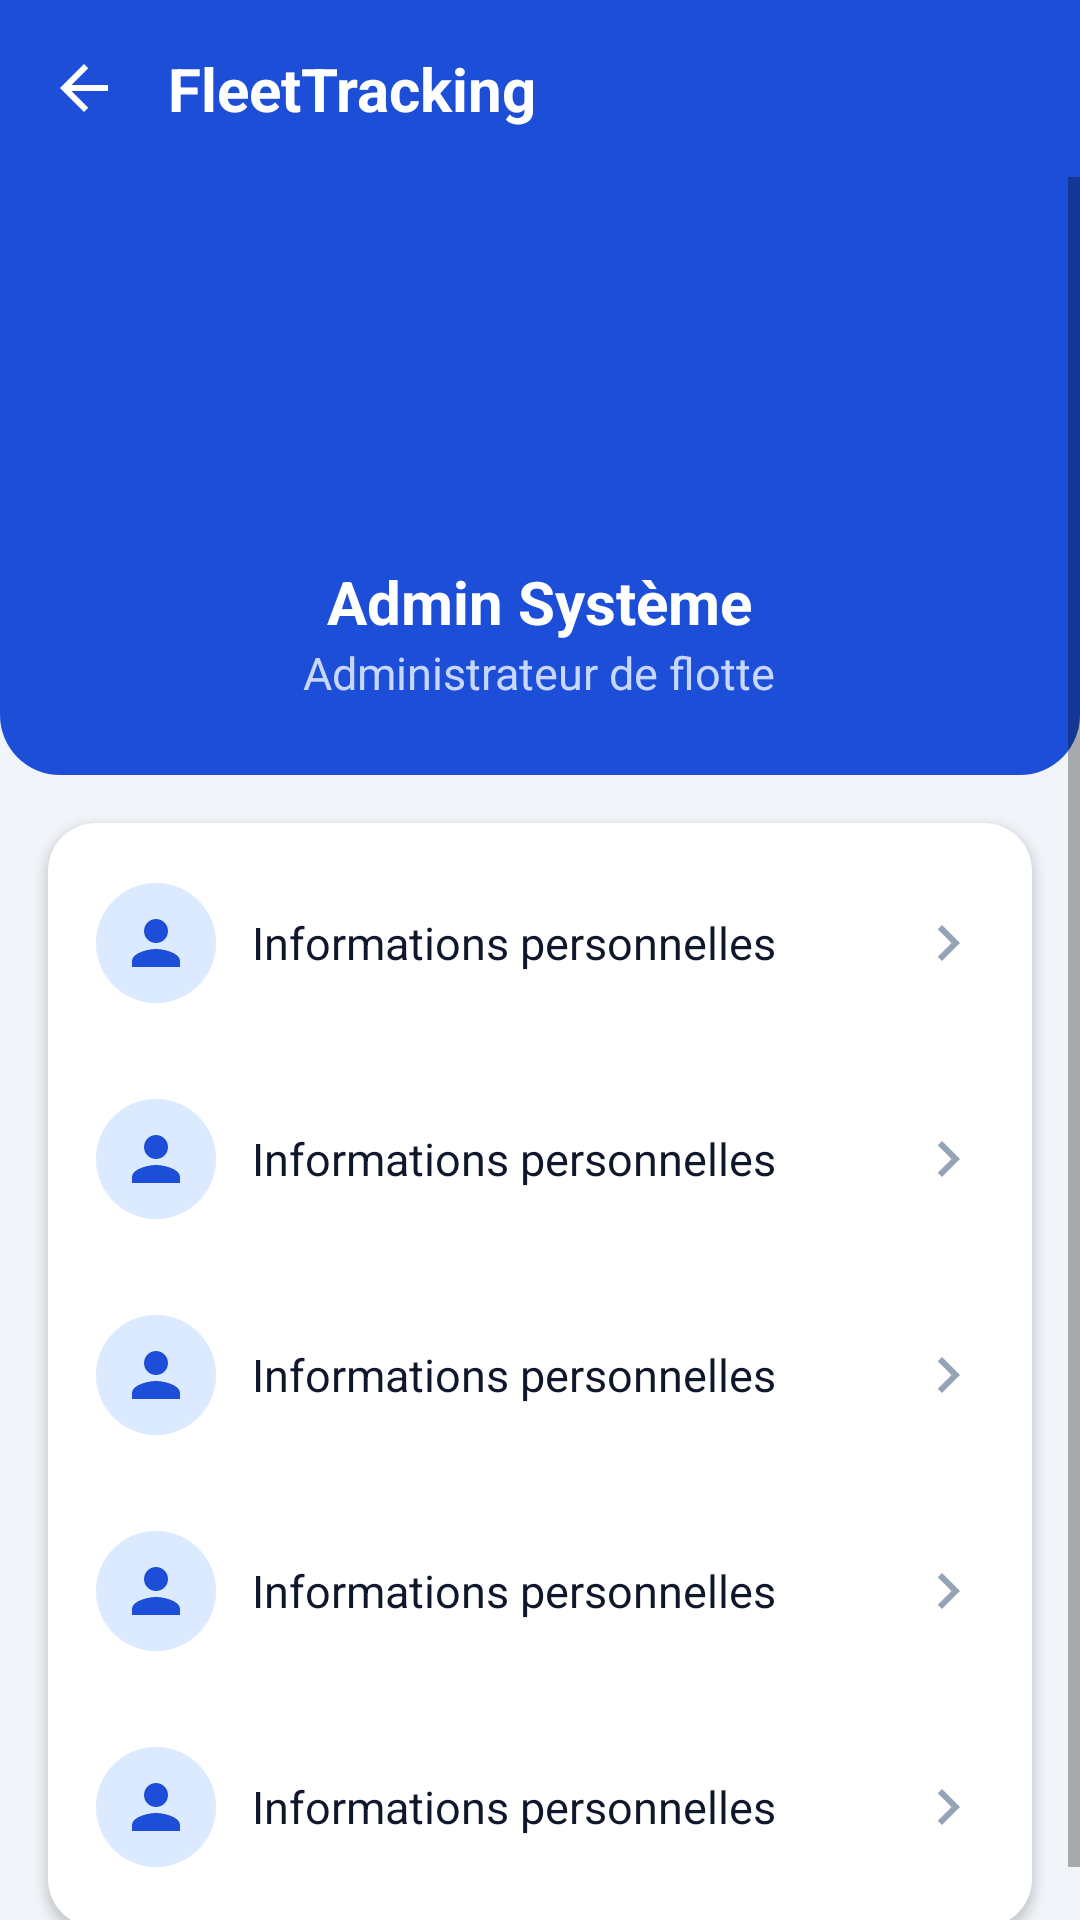

Named icons in this screenshot (1080 x 1920) and their bounding boxes, [left=x1, top=y1, right=x2, bottom=y2]:
chevron right: [left=938, top=925, right=960, bottom=961], [left=938, top=1141, right=960, bottom=1177], [left=938, top=1357, right=960, bottom=1393], [left=938, top=1573, right=960, bottom=1609], [left=938, top=1789, right=960, bottom=1825]
Retour: [left=60, top=64, right=108, bottom=112]
